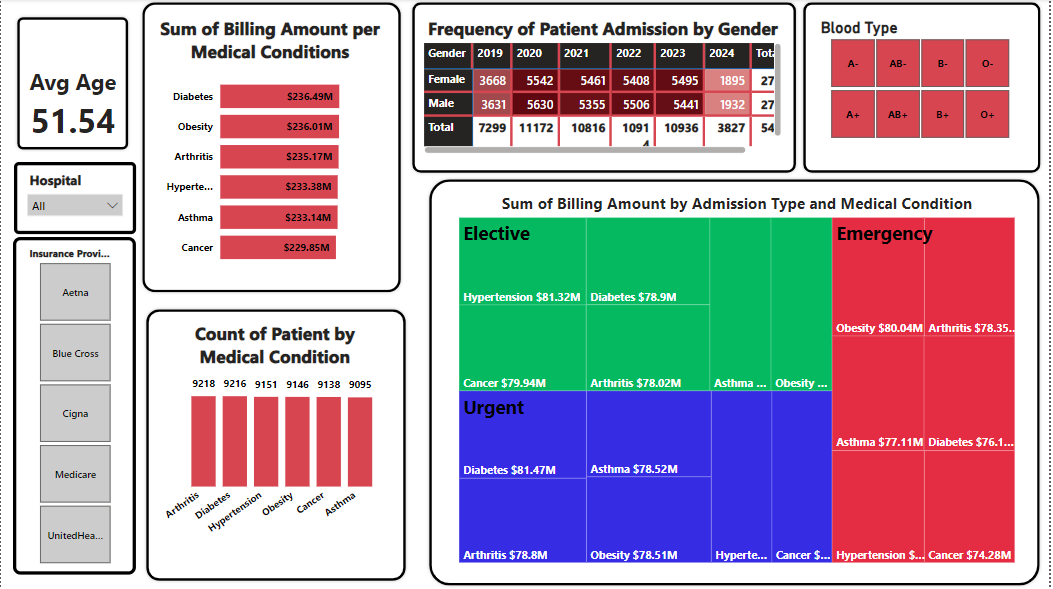

The dashboard page shown, as its layout file describes it:
{"tool":"powerbi","page":{"name":"Page 2","canvas":[1280,720],"ordinal":1},"visuals":[{"type":"shape","box":[15.9,18.3,143.3,169.3],"z":0,"group":"g4"},{"type":"slicer","fields":{"Values":["healthcare_dataset.Hospital"]},"box":[15.9,198.9,148.9,87.9],"z":0},{"type":"card","title":"Avg Age","fields":{"Values":["Avg(healthcare_dataset.Age)"]},"box":[29.7,81.6,116.8,95],"z":1000,"group":"g4"},{"type":"slicer","fields":{"Values":["healthcare_dataset.Insurance Provider"]},"box":[14.6,290.4,150.1,412.5],"z":1000},{"type":"shape","box":[167.9,0,323.4,362],"z":2000,"group":"g3"},{"type":"group","id":"g1","title":"Group 2","box":[497.9,0,475.9,216],"z":2000},{"type":"shape","box":[497.9,0,476.2,216.1],"z":3000,"group":"g1"},{"type":"shape","box":[974.5,0,297.3,216.1],"z":3000,"group":"g6"},{"type":"group","id":"g2","title":"Group 3","box":[173,375,324.6,339.3],"z":3000},{"type":"group","id":"g3","title":"Group 4","box":[167.9,0,323.4,362],"z":4000},{"type":"clusteredBarChart","title":"Sum of Billing Amount per Medical Conditions","fields":{"Category":["healthcare_dataset.Medical Condition"],"Y":["Sum(healthcare_dataset.Billing Amount)"]},"box":[180.2,20.7,295.3,317.3],"z":4000,"group":"g3"},{"type":"group","id":"g4","title":"Group 5","box":[15.9,18.3,142.8,169.6],"z":5000},{"type":"pivotTable","title":"Frequency of Patient Admission by Gender","fields":{"Columns":["healthcare_dataset.Date of Admission.Variation.Date Hierarchy.Year","healthcare_dataset.Date of Admission.Variation.Date Hierarchy.Quarter","healthcare_dataset.Date of Admission.Variation.Date Hierarchy.Month","healthcare_dataset.Date of Admission.Variation.Date Hierarchy.Day"],"Rows":["healthcare_dataset.Gender"],"Values":["healthcare_dataset.TP"]},"box":[511.8,20.6,446.4,173.4],"z":5000,"group":"g1"},{"type":"group","id":"g5","title":"Group 1","box":[518.9,216.1,752.9,503.7],"z":6000},{"type":"shape","box":[518.9,216.1,752.9,503.7],"z":6000,"group":"g5"},{"type":"shape","box":[173,375,324.6,339.3],"z":6000,"group":"g2"},{"type":"group","id":"g6","title":"Group 2","box":[974.5,0,297.3,216.1],"z":7000},{"type":"treemap","fields":{"Group":["healthcare_dataset.Admission Type"],"Details":["healthcare_dataset.Medical Condition"],"Values":["Sum(healthcare_dataset.Billing Amount)"]},"box":[554.8,237.4,688.2,456.2],"z":7000,"group":"g5"},{"type":"slicer","fields":{"Values":["healthcare_dataset.Blood Type"]},"box":[986.8,17.9,267,158.3],"z":8000},{"type":"lineClusteredColumnComboChart","title":"Count of Patient by Medical Condition","fields":{"Category":["healthcare_dataset.Medical Condition"],"Y":["healthcare_dataset.TP"]},"box":[193.4,393.8,280.1,274],"z":8000,"group":"g2"}]}

Visuals, with their boxes in screenshot pixels (x1, y1, x2, y2), scaled from the page's 1280x720 canvas onto the 1053x589 screenshot:
shape: {"left": 13, "top": 15, "right": 131, "bottom": 153}
slicer - healthcare_dataset.Hospital: {"left": 13, "top": 163, "right": 136, "bottom": 235}
"Avg Age" card: {"left": 24, "top": 67, "right": 121, "bottom": 144}
slicer - healthcare_dataset.Insurance Provider: {"left": 12, "top": 238, "right": 135, "bottom": 575}
shape: {"left": 138, "top": 0, "right": 404, "bottom": 296}
"Group 2" group: {"left": 410, "top": 0, "right": 801, "bottom": 177}
shape: {"left": 410, "top": 0, "right": 801, "bottom": 177}
shape: {"left": 802, "top": 0, "right": 1046, "bottom": 177}
"Group 3" group: {"left": 142, "top": 307, "right": 409, "bottom": 584}
"Group 4" group: {"left": 138, "top": 0, "right": 404, "bottom": 296}
"Sum of Billing Amount per Medical Conditions" clusteredBarChart: {"left": 148, "top": 17, "right": 391, "bottom": 277}
"Group 5" group: {"left": 13, "top": 15, "right": 131, "bottom": 154}
"Frequency of Patient Admission by Gender" pivotTable: {"left": 421, "top": 17, "right": 788, "bottom": 159}
"Group 1" group: {"left": 427, "top": 177, "right": 1046, "bottom": 588}
shape: {"left": 427, "top": 177, "right": 1046, "bottom": 588}
shape: {"left": 142, "top": 307, "right": 409, "bottom": 584}
"Group 2" group: {"left": 802, "top": 0, "right": 1046, "bottom": 177}
treemap - healthcare_dataset.Admission Type x healthcare_dataset.Medical Condition: {"left": 456, "top": 194, "right": 1023, "bottom": 567}
slicer - healthcare_dataset.Blood Type: {"left": 812, "top": 15, "right": 1031, "bottom": 144}
"Count of Patient by Medical Condition" lineClusteredColumnComboChart: {"left": 159, "top": 322, "right": 390, "bottom": 546}
